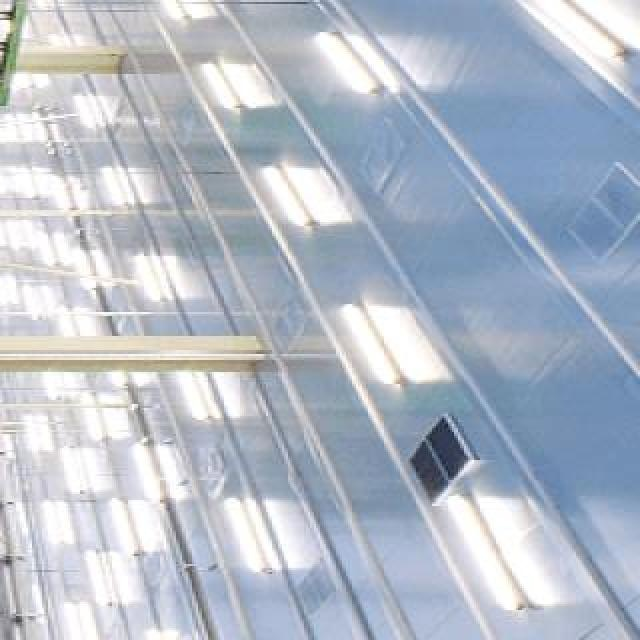fluorescent tube: (445, 480, 533, 631), (502, 0, 632, 58), (303, 27, 394, 109), (249, 147, 316, 253), (327, 300, 398, 396), (211, 497, 284, 587), (158, 345, 222, 431), (185, 56, 247, 125), (127, 240, 173, 309), (109, 493, 149, 563), (96, 158, 140, 220), (64, 87, 100, 142), (146, 0, 202, 26)
